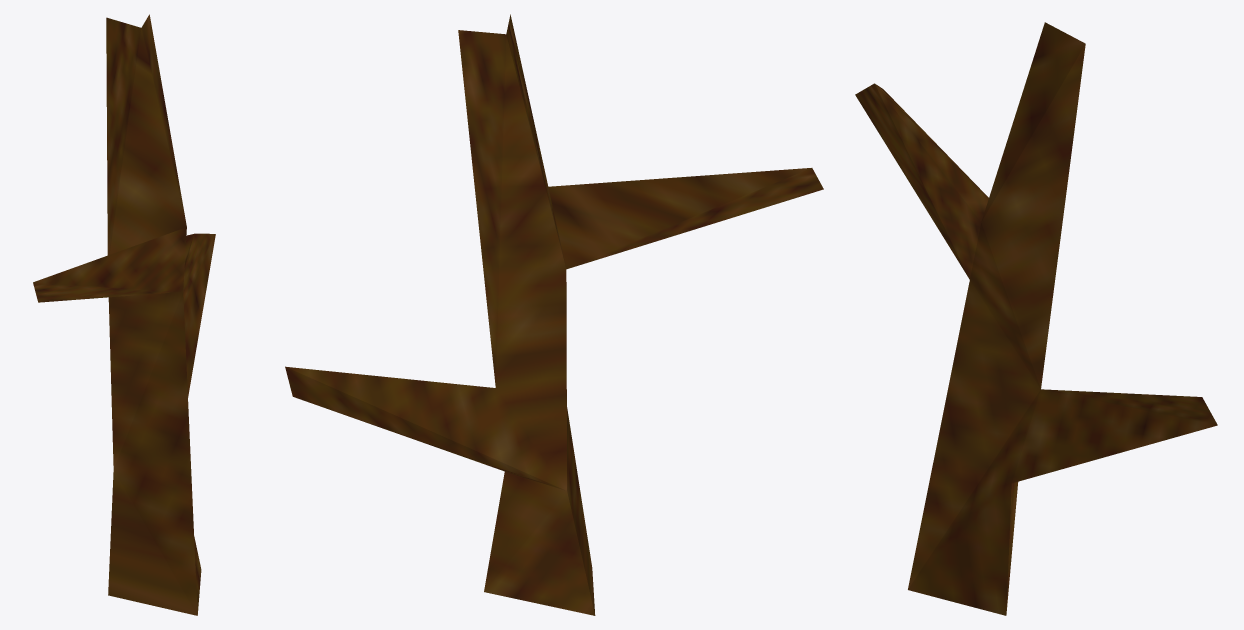
The model's file is treebranch04.glb.
The picture shows the model from 3 angles, left to right: view 1: azimuth 30°, elevation 25°; view 2: azimuth 150°, elevation 25°; view 3: azimuth 270°, elevation 25°; orthographic projection. The views are drawn at different scales.
Visible parts, largest first — view 1: treebranch04; view 2: treebranch04; view 3: treebranch04.
Part boxes in pixels (x1,y1,x2,y2): treebranch04: (33, 14, 215, 615); treebranch04: (285, 14, 823, 615); treebranch04: (855, 22, 1217, 615).
Size of the model in its own units: 455 by 652 by 387.
Materials: 1 (1 with a texture image).
